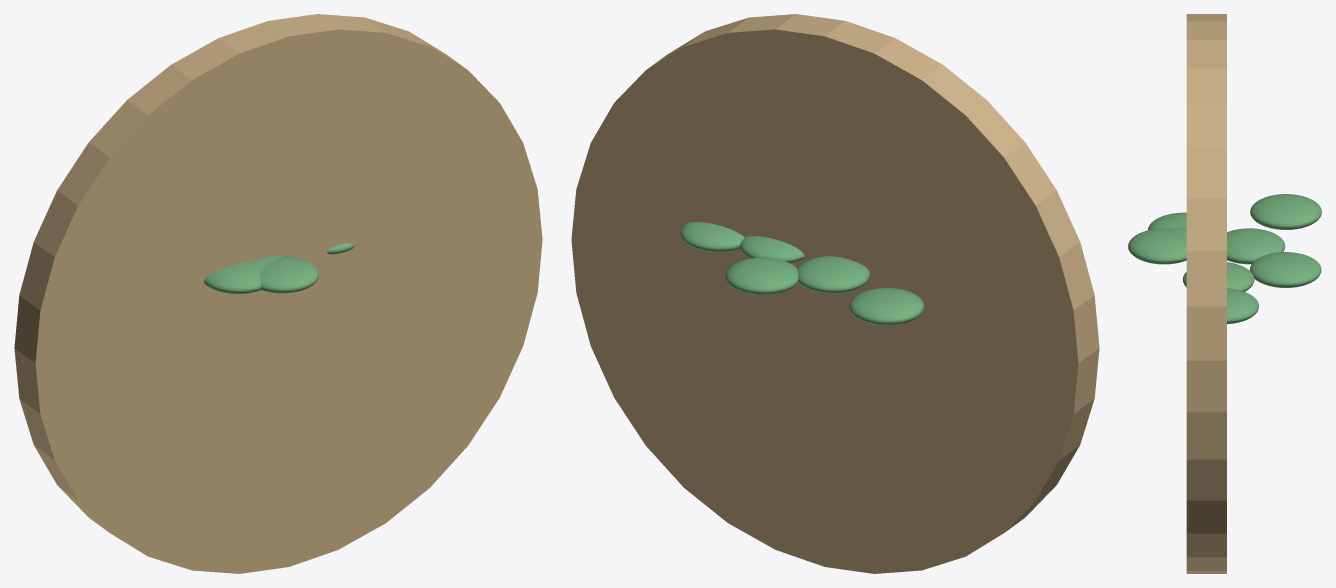
The model's file is pizza.glb.
3 renders of one model, left to right at view 1: azimuth 30°, elevation 25°; view 2: azimuth 150°, elevation 25°; view 3: azimuth 270°, elevation 25°, orthographic. The views are drawn at different scales.
Parts seen in each view (by area): view 1: geometry_0, geometry_3, geometry_8; view 2: geometry_0, geometry_6, geometry_4, geometry_7, geometry_5, geometry_10; view 3: geometry_0, geometry_6, geometry_4, geometry_3, geometry_7, geometry_5, geometry_10, geometry_8.
Boxes of the visible parts, x1=… form: geometry_0: x1=14, y1=14, x2=542, y2=573; geometry_3: x1=260, y1=256, x2=318, y2=293; geometry_8: x1=204, y1=262, x2=260, y2=293; geometry_0: x1=571, y1=14, x2=1099, y2=573; geometry_6: x1=849, y1=288, x2=924, y2=325; geometry_4: x1=725, y1=257, x2=798, y2=294; geometry_7: x1=797, y1=256, x2=869, y2=293; geometry_5: x1=680, y1=222, x2=744, y2=252; geometry_10: x1=740, y1=236, x2=804, y2=262; geometry_0: x1=1186, y1=14, x2=1226, y2=573; geometry_6: x1=1250, y1=194, x2=1321, y2=229; geometry_4: x1=1250, y1=252, x2=1321, y2=287; geometry_3: x1=1128, y1=229, x2=1186, y2=264; geometry_7: x1=1227, y1=228, x2=1285, y2=264; geometry_5: x1=1227, y1=288, x2=1258, y2=324; geometry_10: x1=1182, y1=262, x2=1254, y2=291; geometry_8: x1=1148, y1=212, x2=1186, y2=230.
Bounding box in the file's own units: 2.5 × 2.5 × 0.8646.
